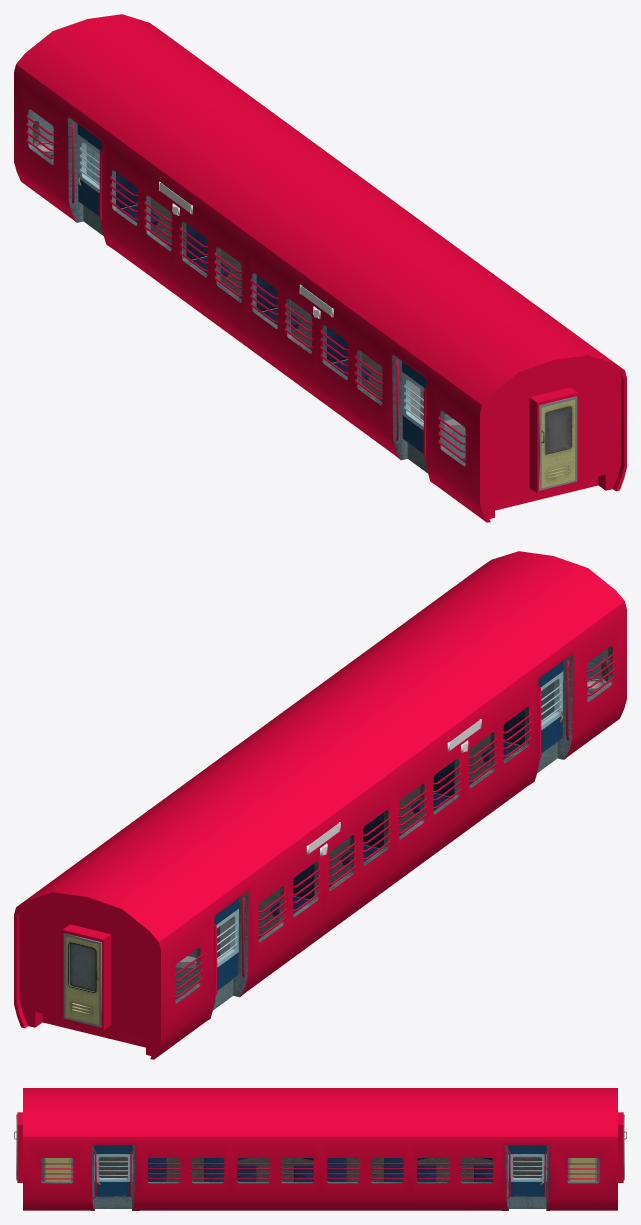
File: coach.glb
The picture shows the model from 3 angles, top to bottom: view 1: azimuth 30°, elevation 25°; view 2: azimuth 150°, elevation 25°; view 3: azimuth 270°, elevation 25°; orthographic projection. The views are drawn at different scales.
Visible parts, largest first — view 1: Train_Prefab__1__Variant, Coach_door__1__1, Compartment_Door__1_, Compartment_Door__2_, Seats1, Seats1_1, Seats2_1, Seats2; view 2: Train_Prefab__1__Variant, Coach_door__1_, Compartment_Door__2_, Compartment_Door__1_, Seats1_1, Seats1, Seats2_1, Seats2; view 3: Train_Prefab__1__Variant, Compartment_Door__1__1, Compartment_Door, Seats2, Seats2_1, Seats1_1, Seats1, Bathroom_Door__1_, Bathroom_Door__2_.
Part boxes in pixels (<box>): Train_Prefab__1__Variant: <box>14,14,626,522</box>; Coach_door__1__1: <box>539,396,577,490</box>; Compartment_Door__1_: <box>77,124,102,216</box>; Compartment_Door__2_: <box>402,361,426,453</box>; Seats1: <box>116,172,171,247</box>; Seats1_1: <box>256,275,311,350</box>; Seats2_1: <box>326,326,382,401</box>; Seats2: <box>186,223,241,298</box>; Train_Prefab__1__Variant: <box>14,551,626,1059</box>; Coach_door__1_: <box>63,933,101,1027</box>; Compartment_Door__2_: <box>538,661,563,753</box>; Compartment_Door__1_: <box>214,898,238,990</box>; Seats1_1: <box>399,760,454,835</box>; Seats1: <box>258,863,314,938</box>; Seats2_1: <box>469,709,524,784</box>; Seats2: <box>329,812,384,887</box>; Train_Prefab__1__Variant: <box>17,1088,623,1210</box>; Compartment_Door__1__1: <box>93,1145,132,1196</box>; Compartment_Door: <box>508,1145,547,1196</box>; Seats2: <box>327,1158,403,1181</box>; Seats2_1: <box>148,1158,224,1181</box>; Seats1_1: <box>237,1158,313,1181</box>; Seats1: <box>417,1158,493,1181</box>; Bathroom_Door__1_: <box>568,1158,596,1181</box>; Bathroom_Door__2_: <box>44,1158,72,1181</box>.
Bounding box in the file's own units: 4.29 × 3.93 × 23.29.
Materials: 8 (7 with a texture image).
